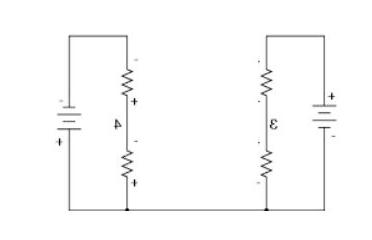resistor: (255, 62, 282, 94), (113, 65, 138, 97), (117, 143, 141, 176), (254, 143, 278, 176)
